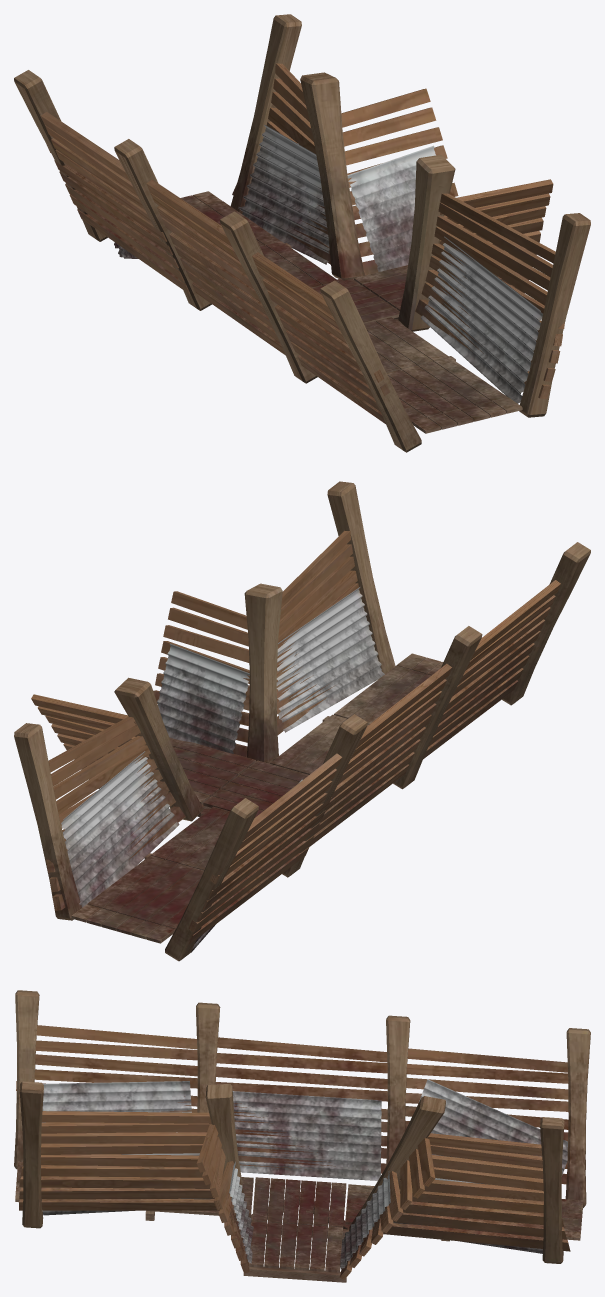
The model's file is trench_threeway.glb.
3 views of the same model, one above another, from view 1: azimuth 30°, elevation 25°; view 2: azimuth 150°, elevation 25°; view 3: azimuth 270°, elevation 25° (orthographic). The views are drawn at different scales.
Visible parts, largest first — view 1: Object173_Three way section_0; view 2: Object173_Three way section_0; view 3: Object173_Three way section_0.
Boxes of the visible parts, x1,y1,x2,y2 form: Object173_Three way section_0: [14, 14, 590, 452]; Object173_Three way section_0: [14, 481, 590, 961]; Object173_Three way section_0: [14, 990, 590, 1282].
Size of the model in its own units: 4.89 by 3.18 by 8.53.
Materials: 1 (1 with a texture image).
